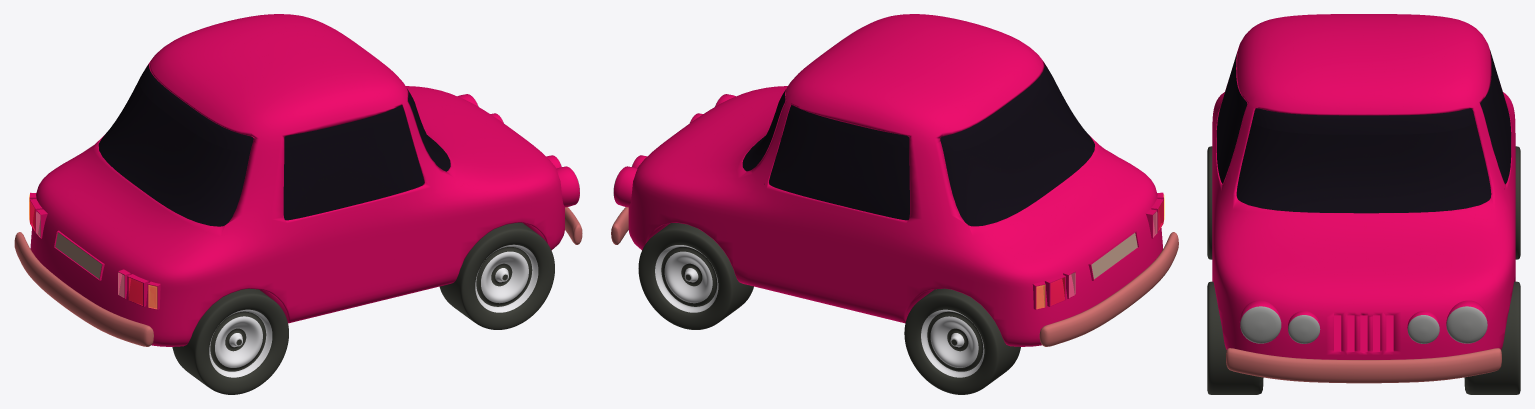
File: toy-car-transformed.glb
The picture shows the model from 3 angles, left to right: view 1: azimuth 30°, elevation 25°; view 2: azimuth 150°, elevation 25°; view 3: azimuth 270°, elevation 25°; orthographic projection. The views are drawn at different scales.
Visible parts, largest first — view 1: Body, Cube.003, Cube.004; view 2: Body, Cube.003, Cube.004; view 3: Body, Cube.003, Cube.004, Sphere.
Part boxes in pixels (x1,y1,x2,y2): Body: (29,14,579,346); Cube.003: (55,64,554,394); Cube.004: (14,207,582,346); Body: (613,14,1163,346); Cube.003: (638,64,1137,394); Cube.004: (611,207,1178,346); Body: (1212,14,1515,359); Cube.003: (1207,50,1520,394); Cube.004: (1226,348,1501,383); Sphere: (1240,306,1487,343).
Bounding box in the file's own units: 4.77 × 2.52 × 2.63.
Materials: 7 (7 with a texture image).
